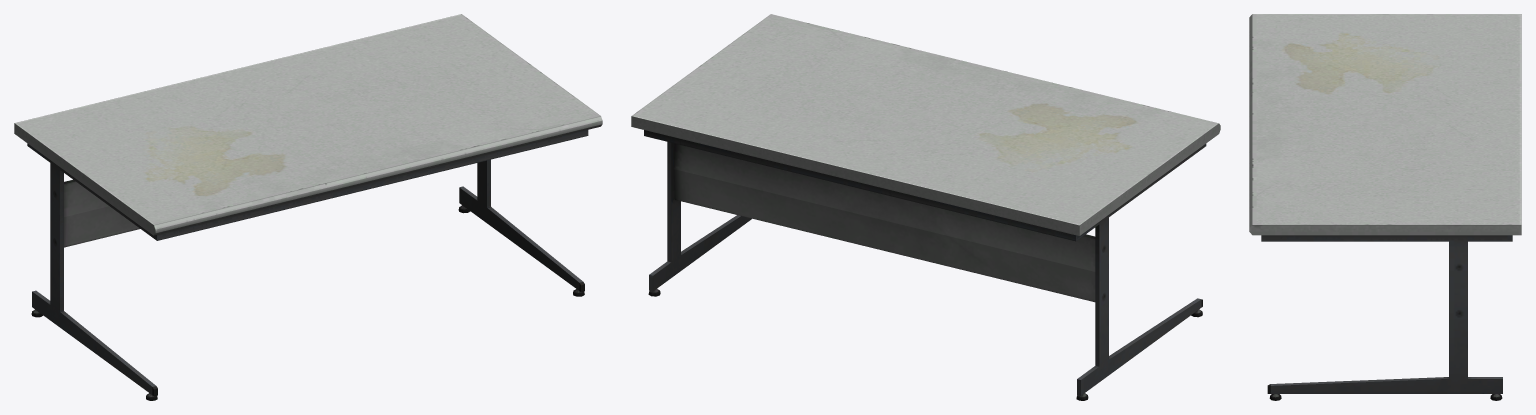
File: lab_desk02.obj
3 renders of one model, left to right at view 1: azimuth 30°, elevation 25°; view 2: azimuth 150°, elevation 25°; view 3: azimuth 270°, elevation 25°, orthographic. The views are drawn at different scales.
Parts seen in each view (by area): view 1: g0; view 2: g0; view 3: g0.
Part boxes in pixels (box(x1,y1,x2,y2)): g0: box(14, 14, 602, 400); g0: box(631, 14, 1220, 400); g0: box(1249, 14, 1521, 400).
Bounding box in the file's own units: 95.39 × 37.66 × 52.03.
Materials: 1 (1 with a texture image).
